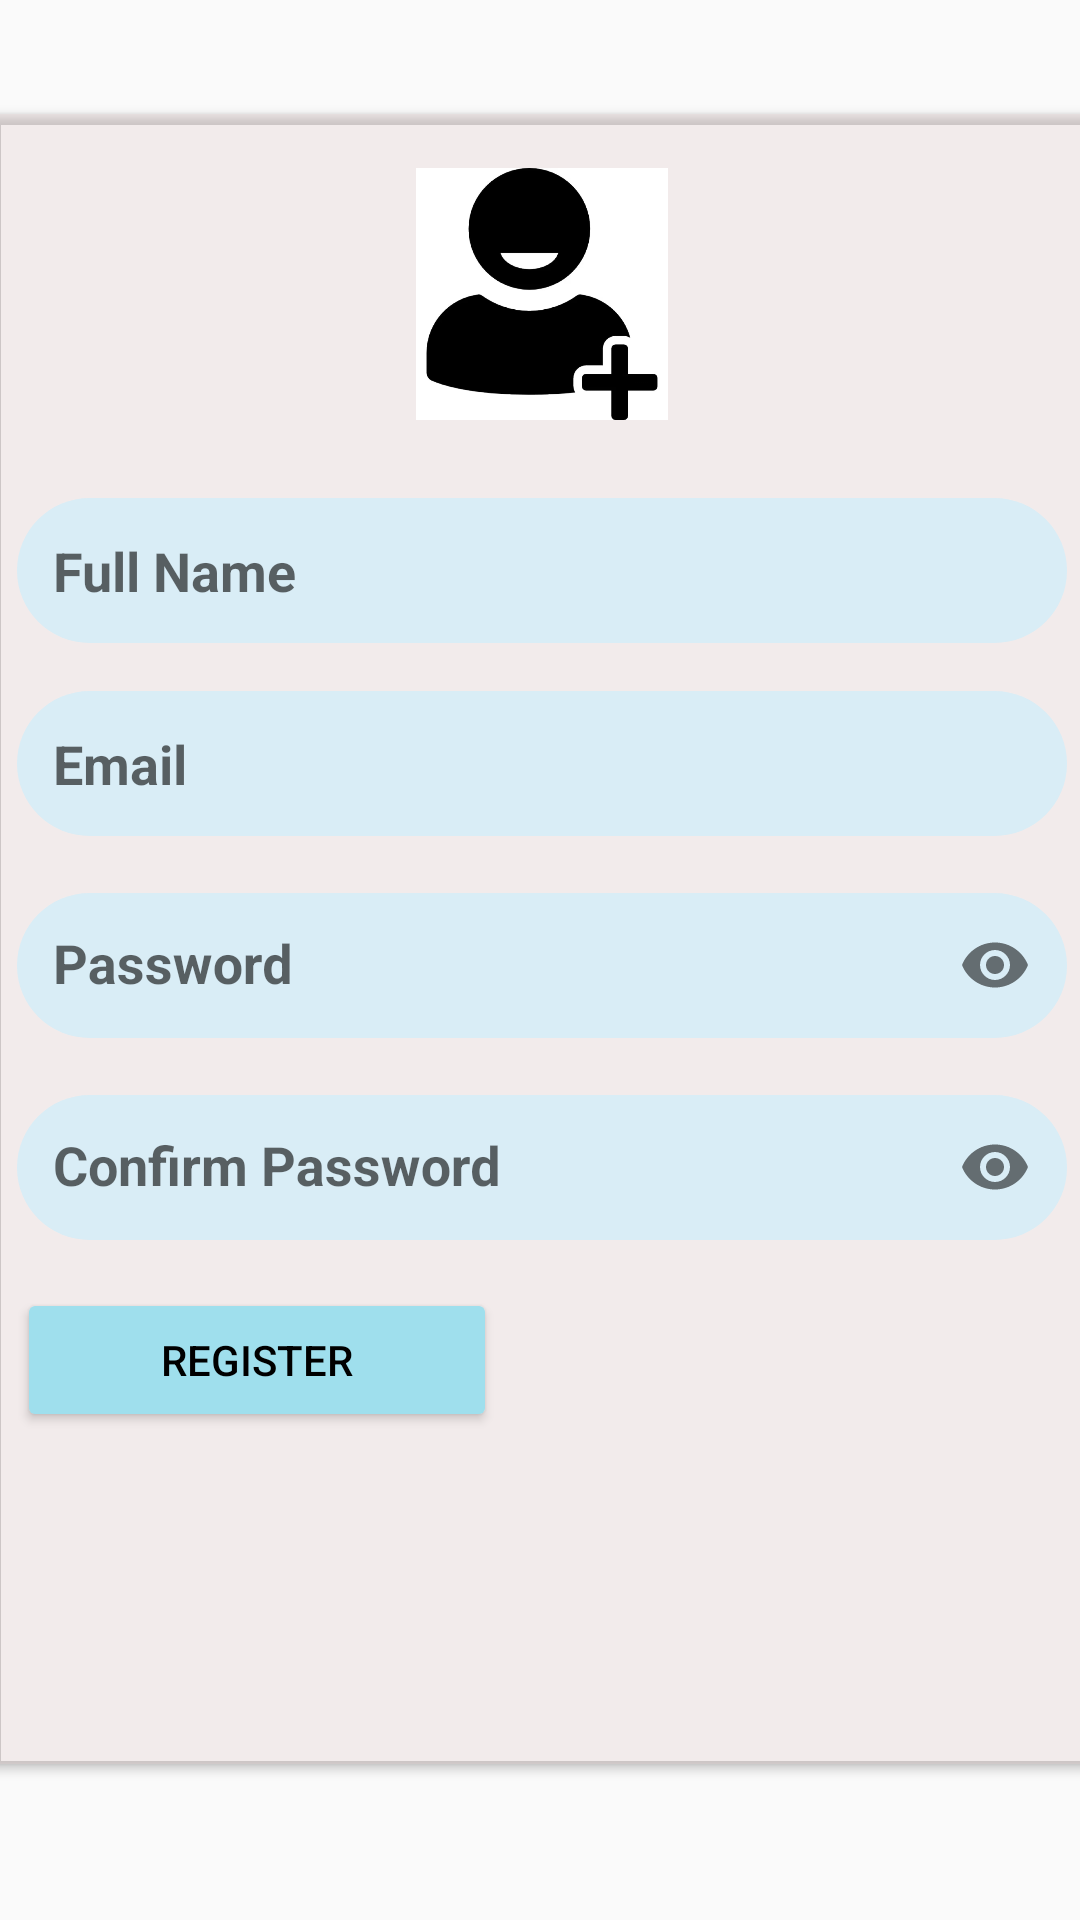

Icons on this 1080 × 1920 Android screen, each with the point to tap as (x=x, y=y):
useraddpic: (x=542, y=294)
